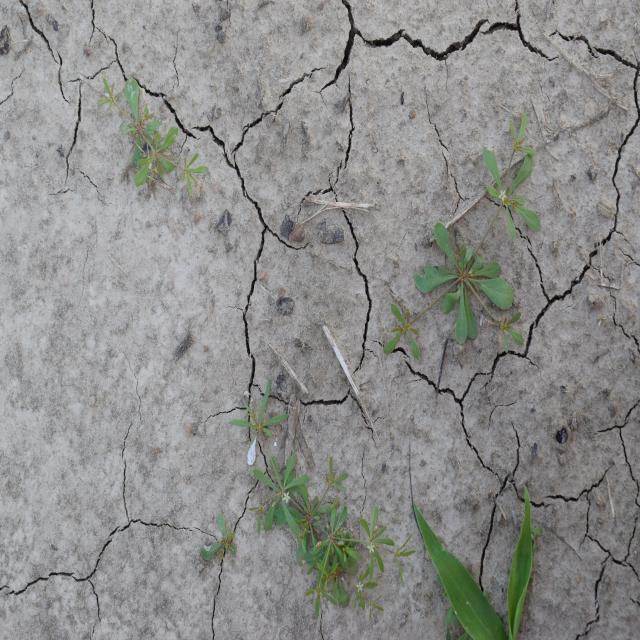Carpetweed: (227, 377, 418, 620), (381, 111, 543, 361), (96, 74, 210, 199), (198, 511, 238, 564)
